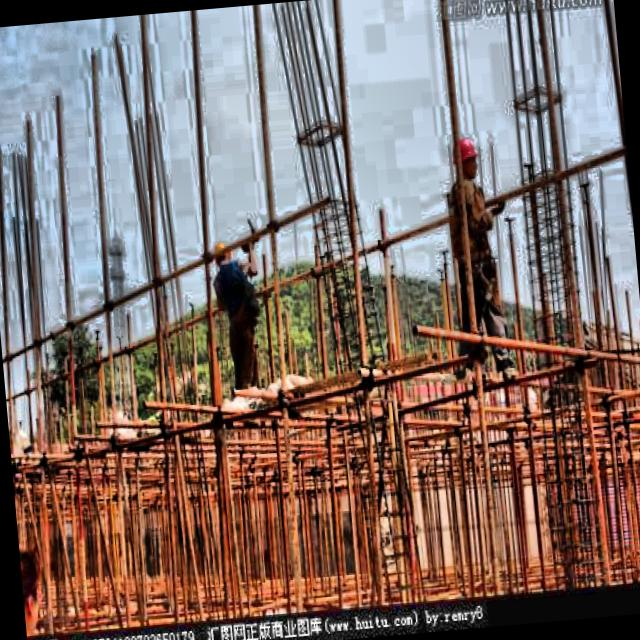helmet: (448, 134, 482, 186), (212, 238, 234, 276)
